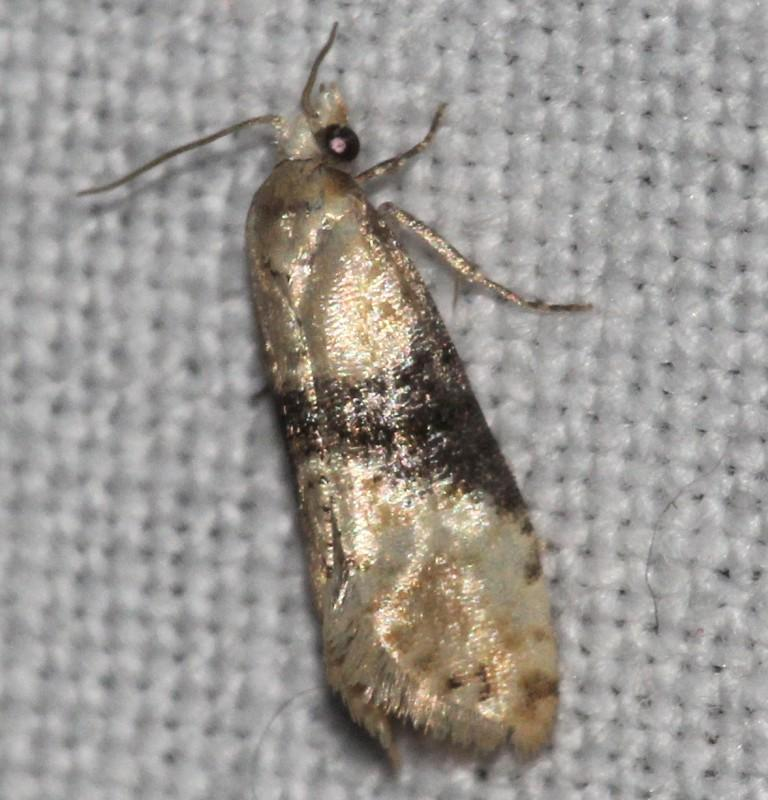Eupoecilia Ambiguella: (74, 19, 596, 773)
